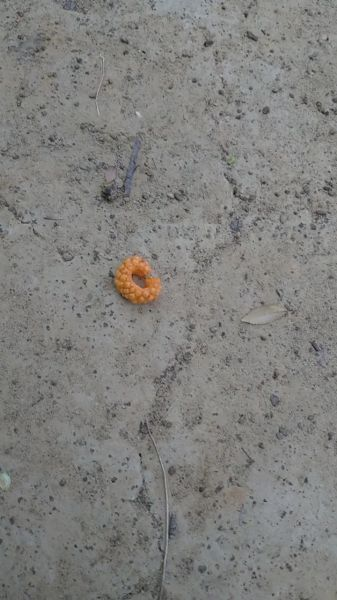eggs: (114, 248, 166, 316)
